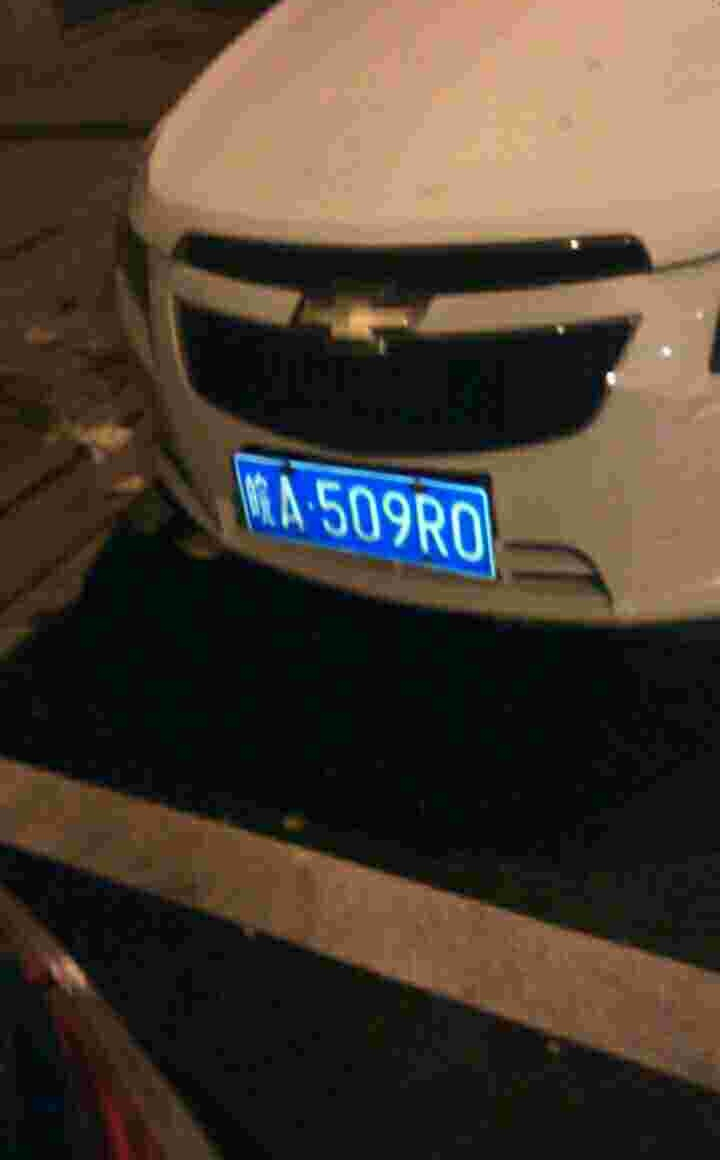car: (225, 452, 489, 582)
